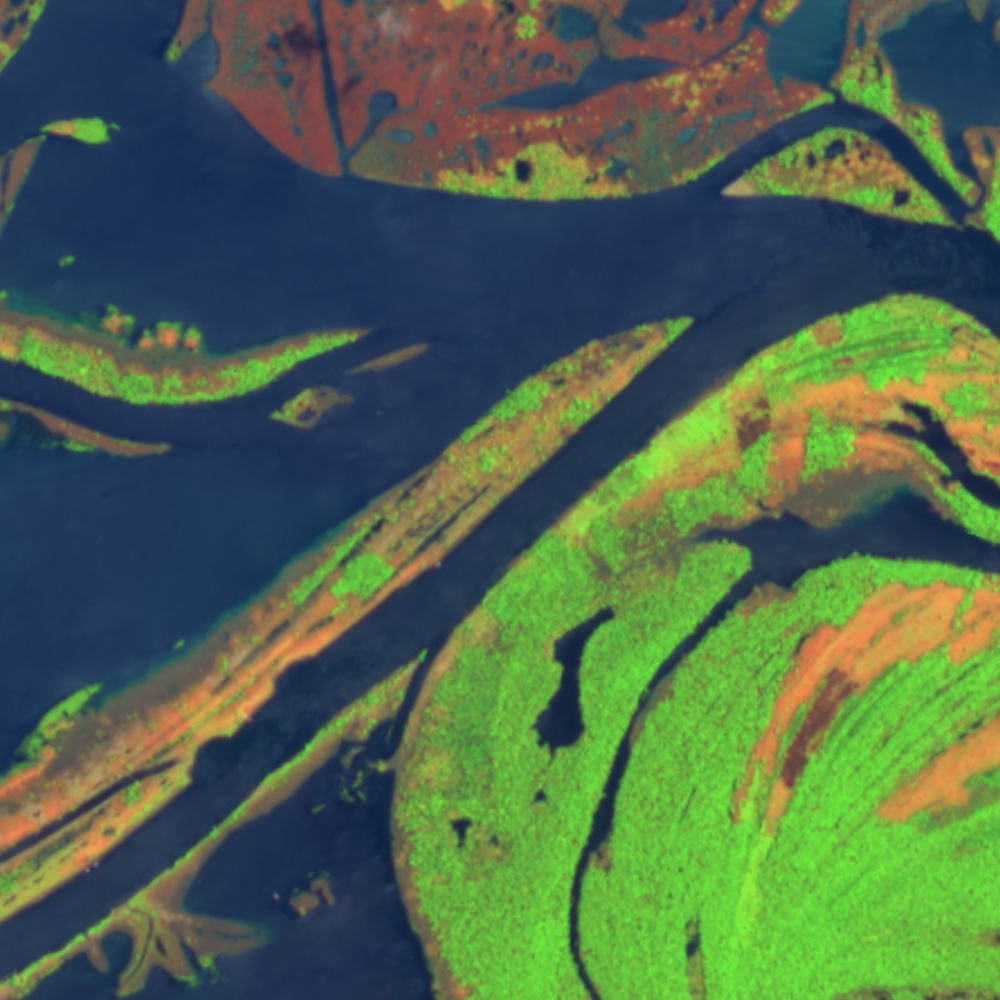legal: (1, 314, 694, 910), (160, 1, 991, 232), (655, 320, 1000, 833), (1, 310, 390, 471), (1, 116, 127, 258), (1, 1, 54, 69)
